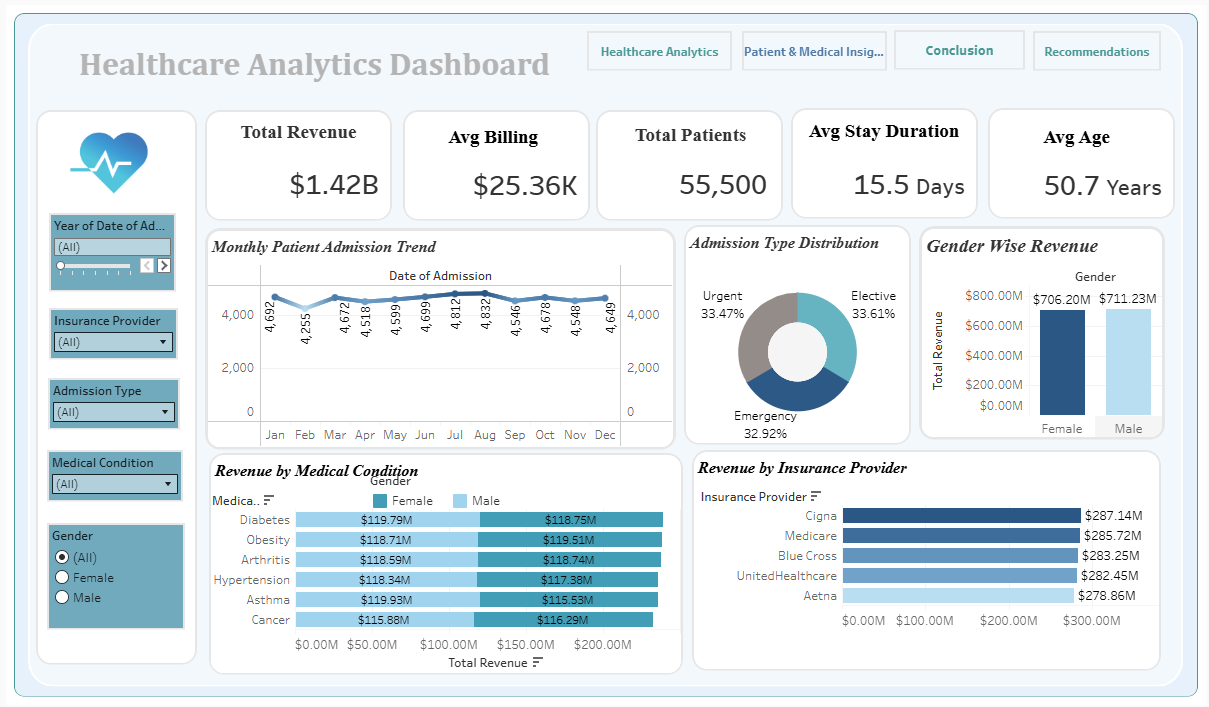

The page's visual inventory and layout, read from the dashboard file:
{"tool":"tableau","page":{"name":"Healthcare Analytics Dashboard","canvas":[1200,700],"ordinal":1},"visuals":[{"type":"text","box":[29.9,14.2,557.3,89.9]},{"type":"worksheet","title":"Sheet 20","mark":"Automatic","box":[21.8,18.9,1155.3,663.3]},{"type":"dashboard-object","box":[888,25,131,40]},{"type":"dashboard-object","box":[581,26,145,40]},{"type":"dashboard-object","box":[736,26,145,40]},{"type":"dashboard-object","box":[1027,26,128,40]},{"type":"blank","box":[785.5,102.9,187,111.1]},{"type":"blank","box":[981.6,102.9,187.5,111.1]},{"type":"blank","box":[29.9,105.2,160.7,554.6]},{"type":"blank","box":[199.5,105.2,187,111.1]},{"type":"blank","box":[396.6,105.2,187.5,111.1]},{"type":"blank","box":[590.1,105.2,187,111.1]},{"type":"worksheet","title":"KPI - Avg Stay","mark":"Automatic","box":[792.7,108.8,170.4,97]},{"type":"worksheet","title":"total revenue KPI","mark":"Automatic","box":[207.8,110,169.4,98.1]},{"type":"worksheet","title":"Total Patients- KPI","mark":"Automatic","box":[604,113,161,92]},{"type":"image","param":"Image/healthy.png","box":[59.2,113.5,96.6,88.7]},{"type":"worksheet","title":"KPI - Avg Billing","mark":"Automatic","box":[404.1,114.7,170.5,89.9]},{"type":"worksheet","title":"KPI - Avg Age","mark":"Automatic","box":[986.1,114.7,173.6,88.7]},{"type":"filter","title":"Sheet 20","param":"[federated.0k48ogp1yjx14319g9uyu1gfnicz].[yr:Date of Admission:ok]","box":[43,208,127,79]},{"type":"worksheet","title":"Admission Type Distribution ","mark":"Pie","rows":["Calculation_6248867314208775","Calculation_6248867314208775"],"box":[678,220,227,220]},{"type":"worksheet","title":"Revenue by Gender  ","mark":"Automatic","rows":["Calculation_6248867278143492"],"cols":["Gender"],"box":[913,221,246,214]},{"type":"worksheet","title":"Monthly Admission Trend","mark":"Area","rows":["Calculation_6248867277987843","Calculation_6248867277987843"],"cols":["Date of Admission"],"box":[199.5,223.5,470.3,221.1]},{"type":"filter","title":"Sheet 20","param":"[federated.0k48ogp1yjx14319g9uyu1gfnicz].[none:Insurance Provider:nk]","box":[43,303,129,52]},{"type":"filter","title":"Sheet 20","param":"[federated.0k48ogp1yjx14319g9uyu1gfnicz].[none:Admission Type:nk]","box":[42,373,132,52]},{"type":"filter","title":"Sheet 20","param":"[federated.0k48ogp1yjx14319g9uyu1gfnicz].[none:Medical Condition:nk]","box":[41,445,136,52]},{"type":"worksheet","title":"Insurance Provider Analysis","mark":"Bar","rows":["Insurance Provider"],"cols":["Calculation_6248867278143492"],"box":[686,445,469,221]},{"type":"worksheet","title":"Revenue by Medical Condition","mark":"Bar","rows":["Medical Condition"],"cols":["Calculation_6248867278143492"],"box":[203,448,474,222]},{"type":"legend","title":"Revenue by Medical Condition","param":"[federated.0k48ogp1yjx14319g9uyu1gfnicz].[none:Gender:nk]","box":[364,467,210,40]},{"type":"filter","title":"Sheet 20","param":"[federated.0k48ogp1yjx14319g9uyu1gfnicz].[none:Gender:nk]","box":[41,518,138,107]}]}

Visuals, with their boxes in screenshot pixels (x1, y1, x2, y2), scaled from the page's 1200x700 canvas onto the 1209x707 screenshot:
text: x1=30 y1=14 x2=592 y2=105
"Sheet 20" worksheet: x1=22 y1=19 x2=1186 y2=689
dashboard-object: x1=895 y1=25 x2=1027 y2=66
dashboard-object: x1=585 y1=26 x2=731 y2=67
dashboard-object: x1=742 y1=26 x2=888 y2=67
dashboard-object: x1=1035 y1=26 x2=1164 y2=67
blank: x1=791 y1=104 x2=980 y2=216
blank: x1=989 y1=104 x2=1178 y2=216
blank: x1=30 y1=106 x2=192 y2=666
blank: x1=201 y1=106 x2=389 y2=218
blank: x1=400 y1=106 x2=588 y2=218
blank: x1=595 y1=106 x2=783 y2=218
"KPI - Avg Stay" worksheet: x1=799 y1=110 x2=970 y2=208
"total revenue KPI" worksheet: x1=209 y1=111 x2=380 y2=210
"Total Patients- KPI" worksheet: x1=609 y1=114 x2=771 y2=207
image: x1=60 y1=115 x2=157 y2=204
"KPI - Avg Billing" worksheet: x1=407 y1=116 x2=579 y2=207
"KPI - Avg Age" worksheet: x1=993 y1=116 x2=1168 y2=205
"Sheet 20" filter: x1=43 y1=210 x2=171 y2=290
"Admission Type Distribution " worksheet (Pie marks): x1=683 y1=222 x2=912 y2=444
"Revenue by Gender  " worksheet: x1=920 y1=223 x2=1168 y2=439
"Monthly Admission Trend" worksheet (Area marks): x1=201 y1=226 x2=675 y2=449
"Sheet 20" filter: x1=43 y1=306 x2=173 y2=359
"Sheet 20" filter: x1=42 y1=377 x2=175 y2=429
"Sheet 20" filter: x1=41 y1=449 x2=178 y2=502
"Insurance Provider Analysis" worksheet (Bar marks): x1=691 y1=449 x2=1164 y2=673
"Revenue by Medical Condition" worksheet (Bar marks): x1=205 y1=452 x2=682 y2=677
"Revenue by Medical Condition" legend: x1=367 y1=472 x2=578 y2=512
"Sheet 20" filter: x1=41 y1=523 x2=180 y2=631
